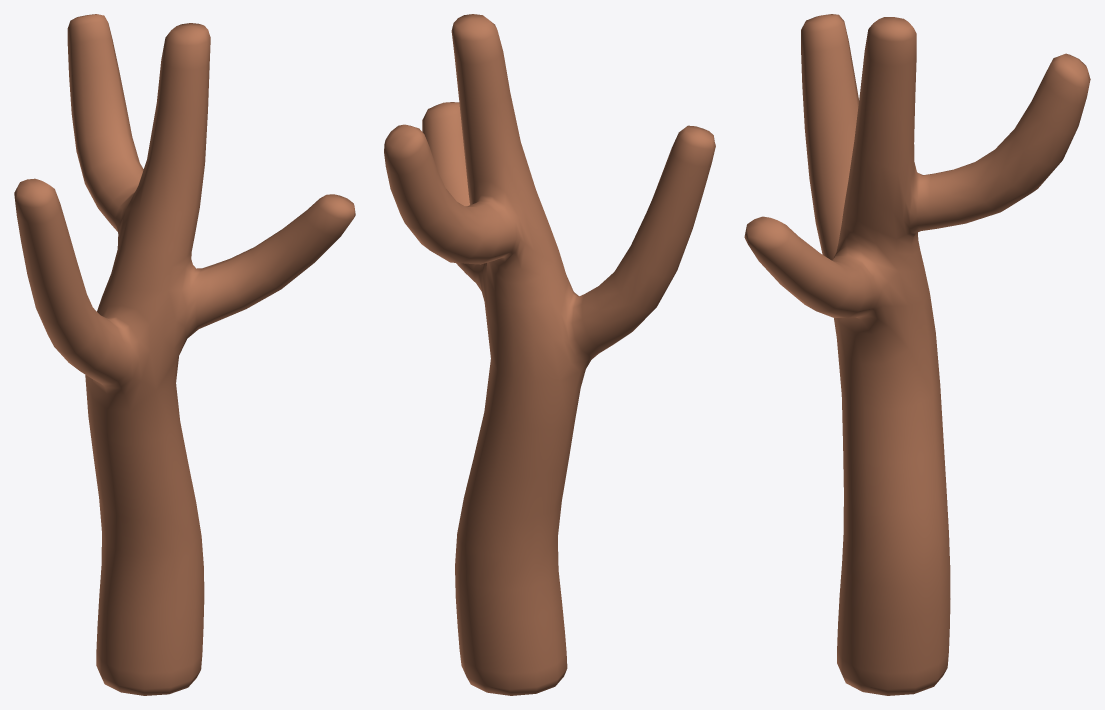
The model's file is Tree_Btm_A_03.fbx.
3 views of the same model, side by side, from view 1: azimuth 30°, elevation 25°; view 2: azimuth 150°, elevation 25°; view 3: azimuth 270°, elevation 25° (orthographic). The views are drawn at different scales.
Parts seen in each view (by area): view 1: Tree_Btm_A_03_LOD0; view 2: Tree_Btm_A_03_LOD0; view 3: Tree_Btm_A_03_LOD0.
Boxes of the visible parts, <box> form: Tree_Btm_A_03_LOD0: <box>14,14,355,695</box>; Tree_Btm_A_03_LOD0: <box>384,14,715,695</box>; Tree_Btm_A_03_LOD0: <box>744,14,1090,695</box>.
Size of what is drawn, in the model's own units: 452 by 892 by 413.
